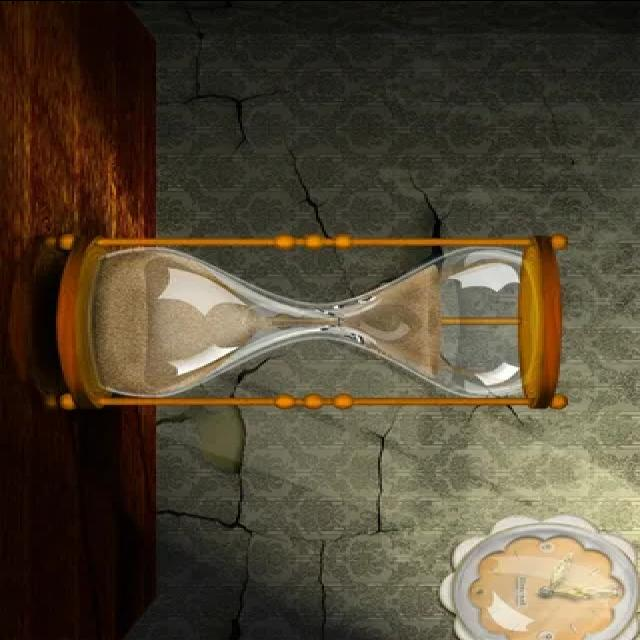clock: (38, 215, 576, 432)
